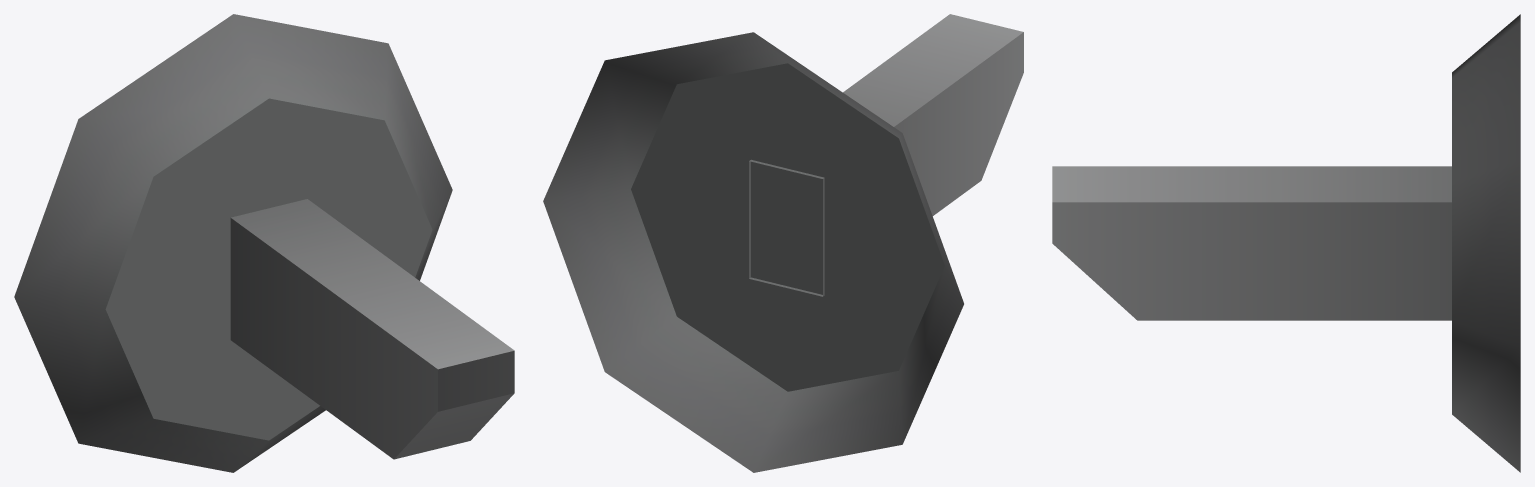
Rendered from Security_cam_012.fbx.
3 renders of one model, left to right at view 1: azimuth 30°, elevation 25°; view 2: azimuth 150°, elevation 25°; view 3: azimuth 270°, elevation 25°, orthographic. The views are drawn at different scales.
Parts seen in each view (by area): view 1: Security_cam_012; view 2: Security_cam_012; view 3: Security_cam_012.
Part boxes in pixels (left/top/right/bottom): Security_cam_012: left=14, top=14, right=514, bottom=472; Security_cam_012: left=543, top=14, right=1023, bottom=472; Security_cam_012: left=1052, top=14, right=1520, bottom=472.
Bounding box in the file's own units: 20.45 × 19.61 × 20.45.
